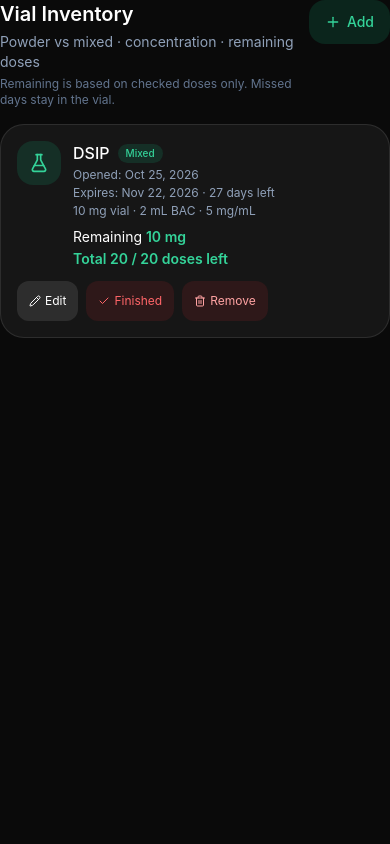
Test: Vial opened date, expiration, and remove › recalculates the expiration preview when the opened date is edited
The image size is (390, 844).
Click the button "Edit" at (48, 301), box top-left (17, 281), bottom-right (78, 321)
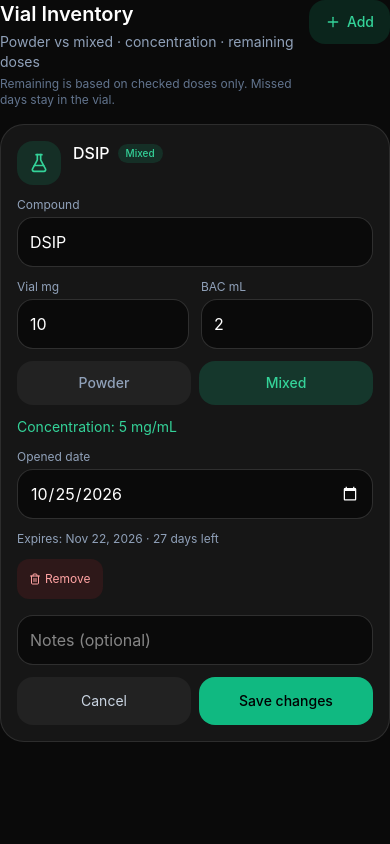
Type "2026-10-01" into the date field labelled "Opened date" at (195, 494), box top-left (17, 469), bottom-right (373, 519)
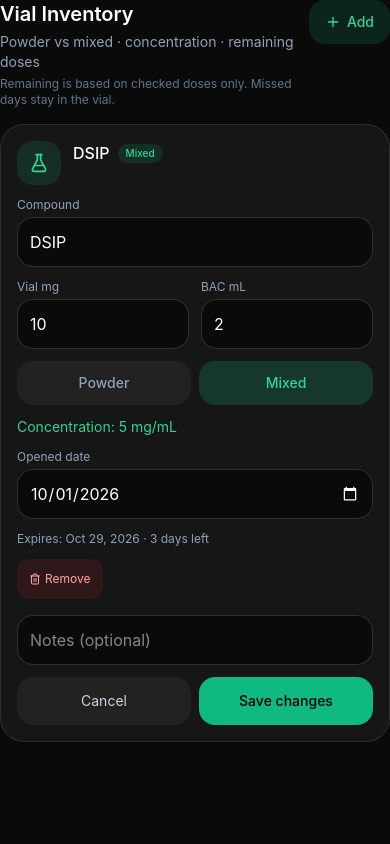
Expected: the button "Remove" is shown, top-left (17, 559), bottom-right (102, 599)
Expected: the button "Save changes" is shown
Click the button "Save changes" at (286, 701), box top-left (199, 677), bottom-right (373, 725)
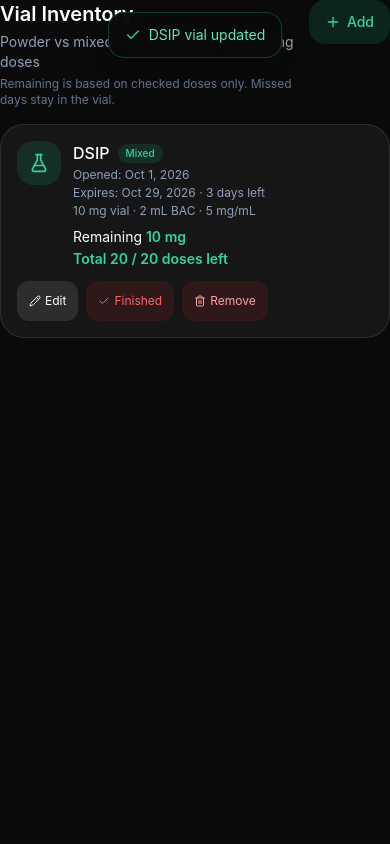
Expected: the button "Finished" is shown, top-left (86, 281), bottom-right (174, 321)
Expected: the button "Edit" is shown, top-left (17, 281), bottom-right (78, 321)
